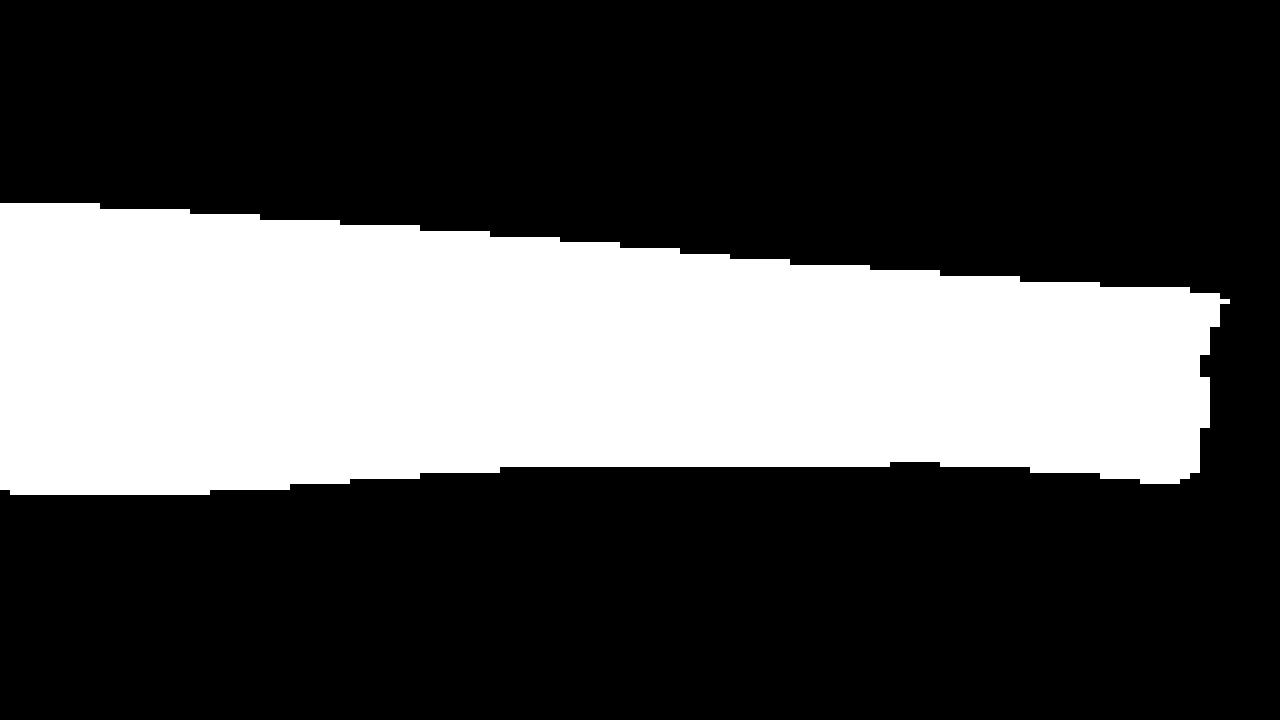Turbine: (14, 180, 1213, 522)
